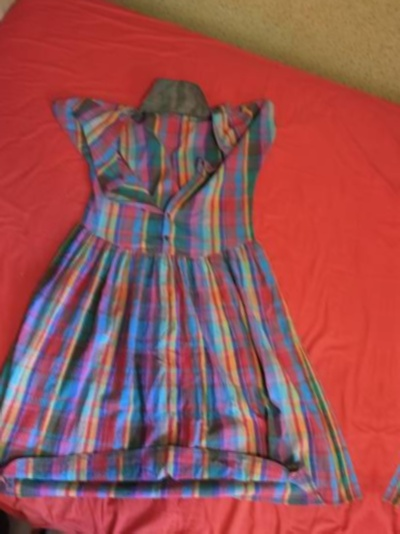Dress: (0, 44, 400, 534), (374, 75, 400, 534)
